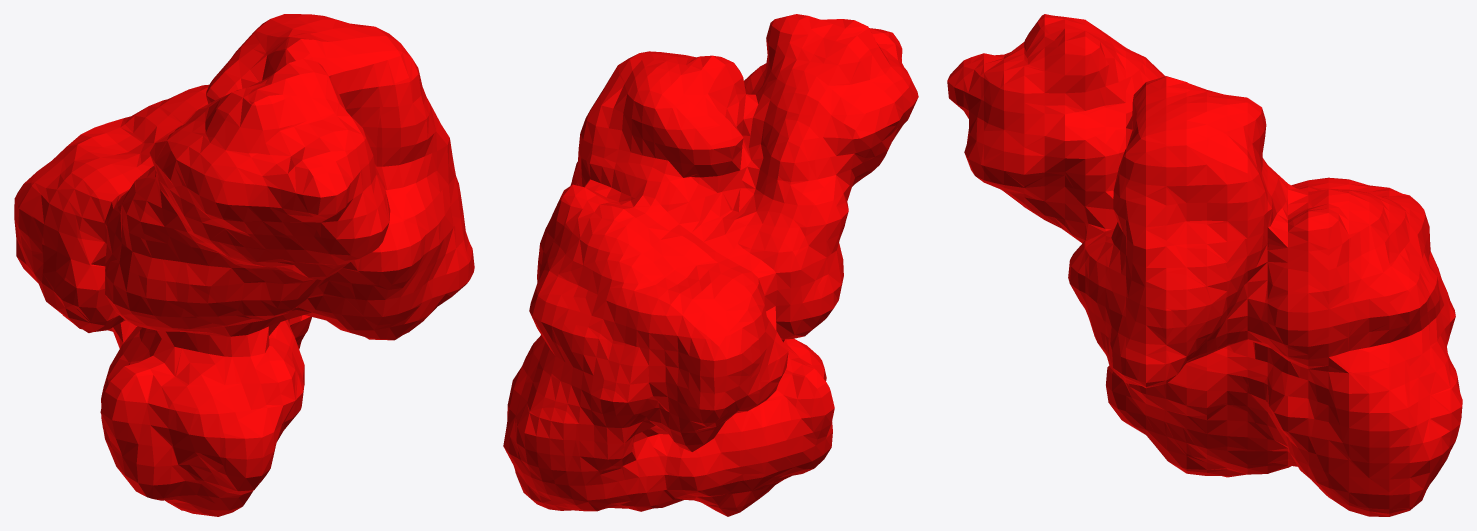
The model's file is truD_coarse.dae.
The picture shows the model from 3 angles, left to right: view 1: azimuth 30°, elevation 25°; view 2: azimuth 150°, elevation 25°; view 3: azimuth 270°, elevation 25°; orthographic projection. The views are drawn at different scales.
Parts seen in each view (by area): view 1: truD; view 2: truD; view 3: truD.
Boxes of the visible parts, x1,y1,x2,y2 form: truD: (14, 14, 474, 516); truD: (503, 14, 918, 516); truD: (947, 14, 1462, 516).
Size of the model in its own units: 60.61 by 86.15 by 88.75.
